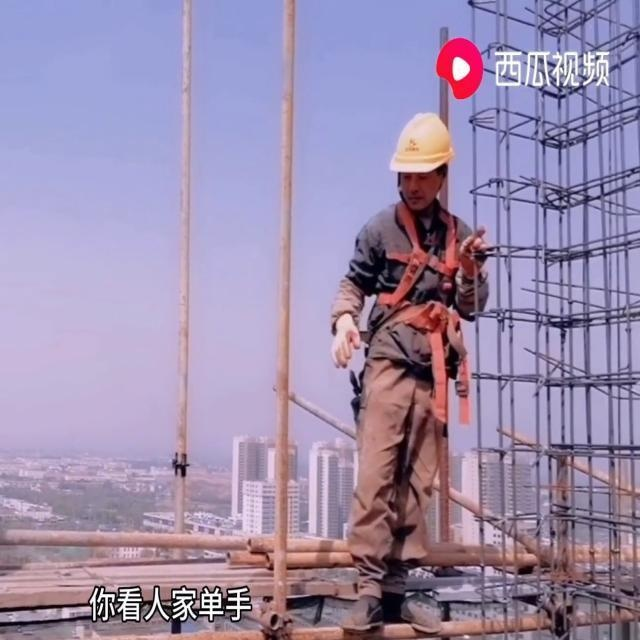Arnes_seguridad: (364, 196, 467, 380)
